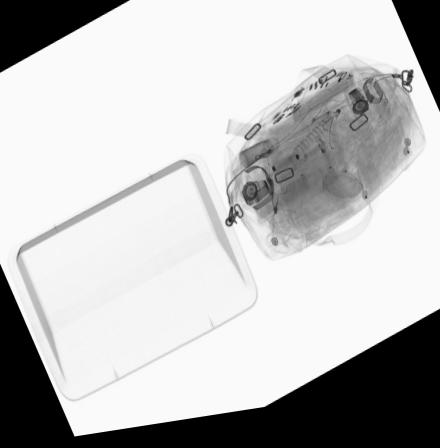Lighter: (312, 144, 335, 180)
